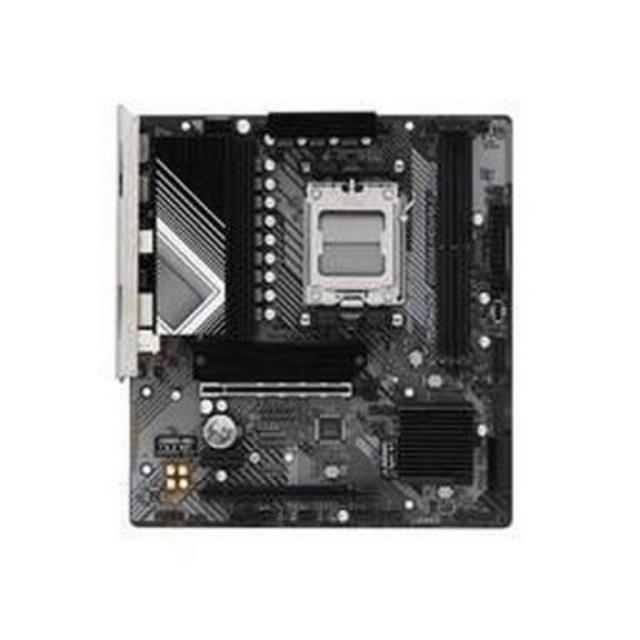Mainboard: (106, 92, 516, 540)
